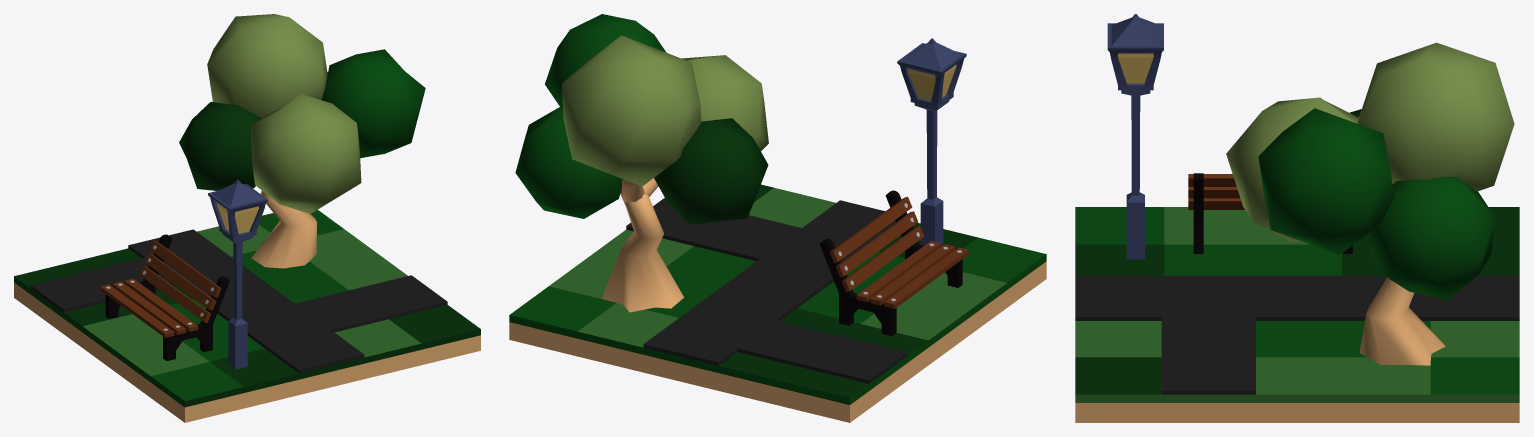
File: green_park_no_lights.fbx
The picture shows the model from 3 angles, left to right: view 1: azimuth 30°, elevation 25°; view 2: azimuth 150°, elevation 25°; view 3: azimuth 270°, elevation 25°; orthographic projection. The views are drawn at different scales.
Visible parts, largest first — view 1: tree, plane_up_park, plane_road, plane_under_park, chair, light; view 2: tree, plane_up_park, plane_road, plane_under_park, chair, light; view 3: tree, plane_up_park, plane_road, plane_under_park, light, chair.
Part boxes in pixels (left/top/right/bottom): tree: left=179, top=14, right=425, bottom=268; plane_up_park: left=14, top=210, right=480, bottom=407; plane_road: left=30, top=229, right=447, bottom=373; plane_under_park: left=14, top=282, right=480, bottom=422; chair: left=100, top=234, right=229, bottom=360; light: left=208, top=180, right=267, bottom=369; tree: left=515, top=14, right=768, bottom=312; plane_up_park: left=509, top=184, right=1046, bottom=404; plane_road: left=626, top=198, right=907, bottom=383; plane_under_park: left=509, top=261, right=1046, bottom=422; chair: left=819, top=190, right=969, bottom=336; light: left=897, top=38, right=966, bottom=246; tree: left=1226, top=42, right=1514, bottom=365; plane_up_park: left=1075, top=207, right=1519, bottom=402; plane_road: left=1075, top=275, right=1519, bottom=394; plane_under_park: left=1075, top=403, right=1519, bottom=422; light: left=1107, top=14, right=1163, bottom=259; chair: left=1188, top=173, right=1352, bottom=253.
Bounding box in the file's own units: 110 × 81.04 × 100.
